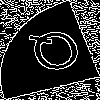Q: (25, 25, 89, 82)
